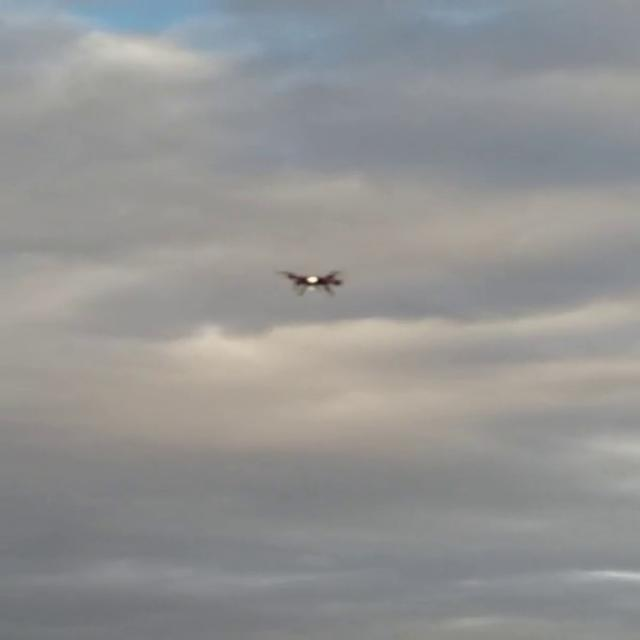drone: (278, 263, 346, 298)
